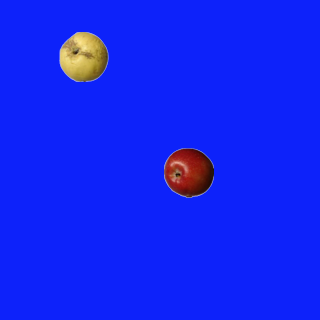Apple Braeburn: (163, 147, 213, 197)
Apple Golden 1: (58, 31, 108, 81)
